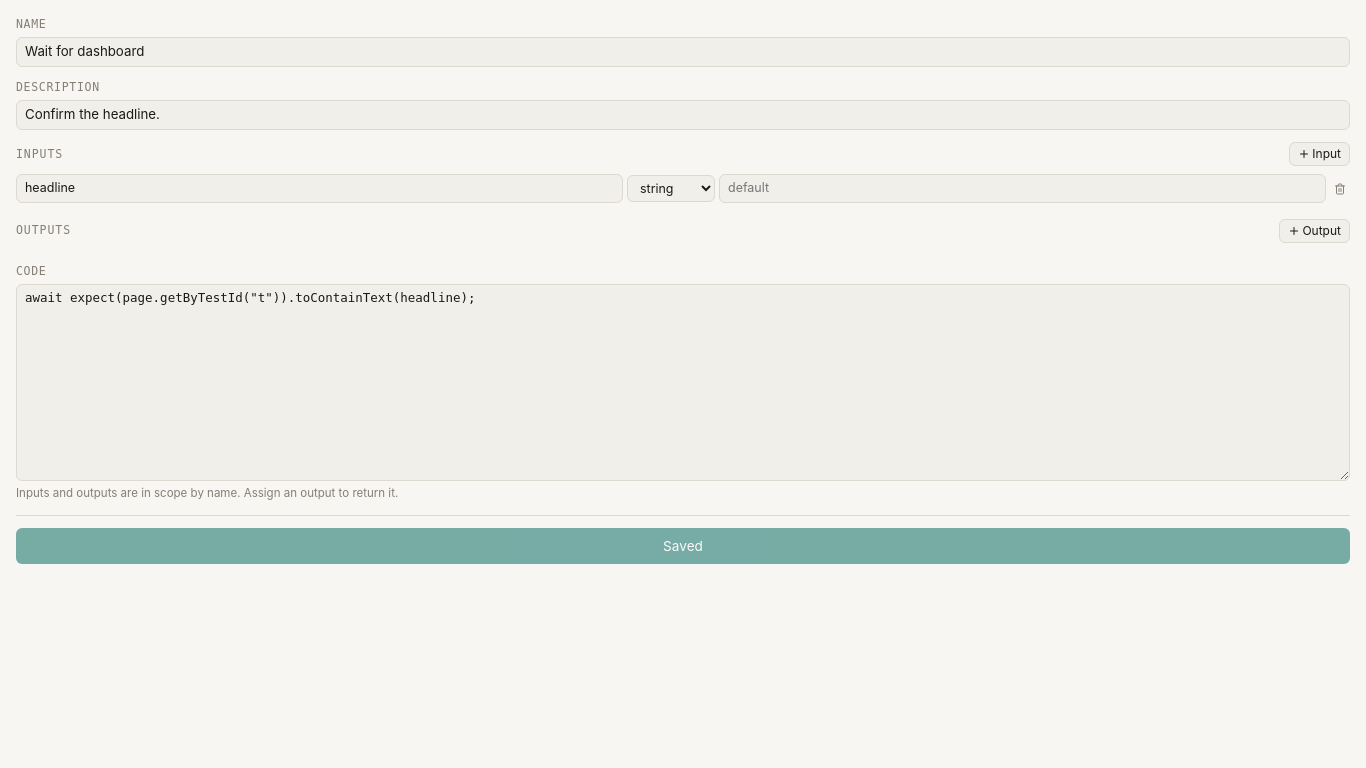
Test: editing › enables saving once something changes
Replace the text in the field showing "Wait for dashboard" with "Wait for the dashboard": (683, 52) [16,37,1350,67]
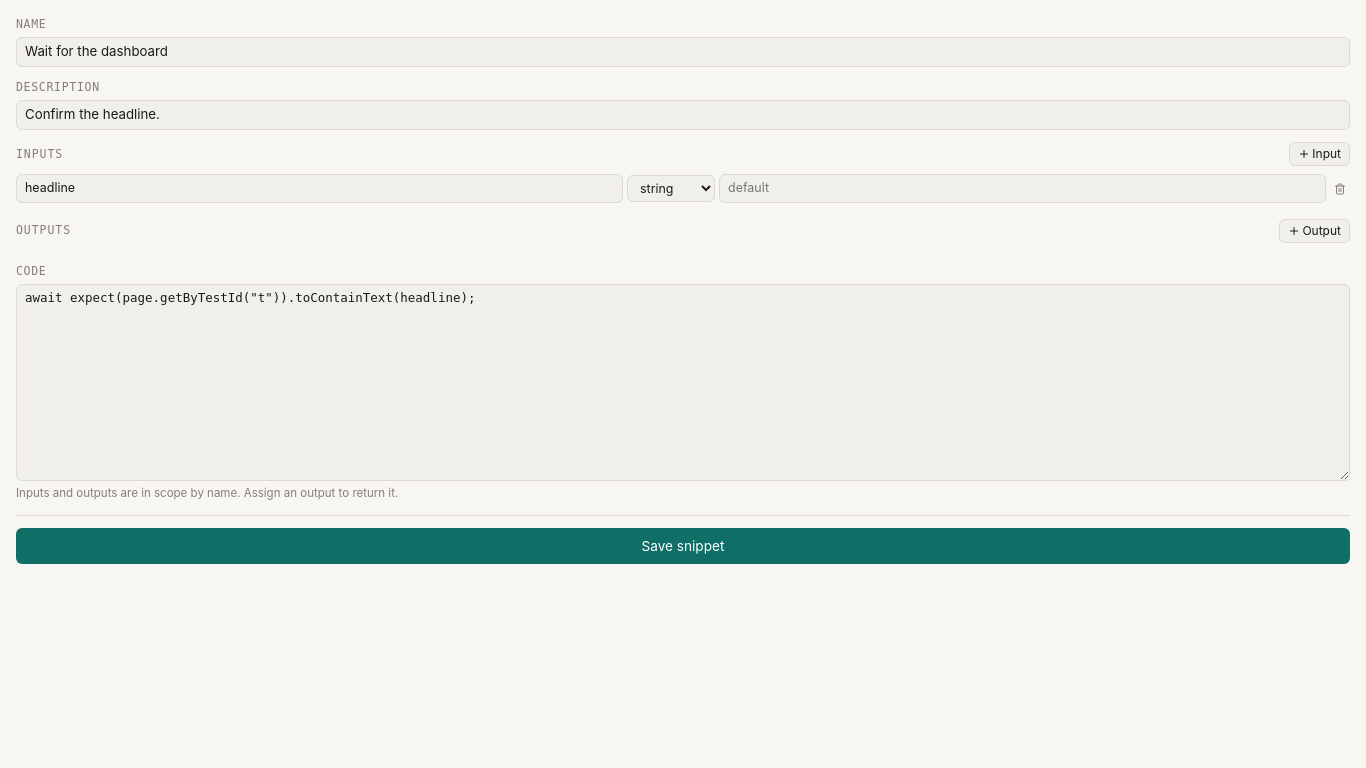
Now the button "Save snippet" is enabled, box [16,528,1350,564]
